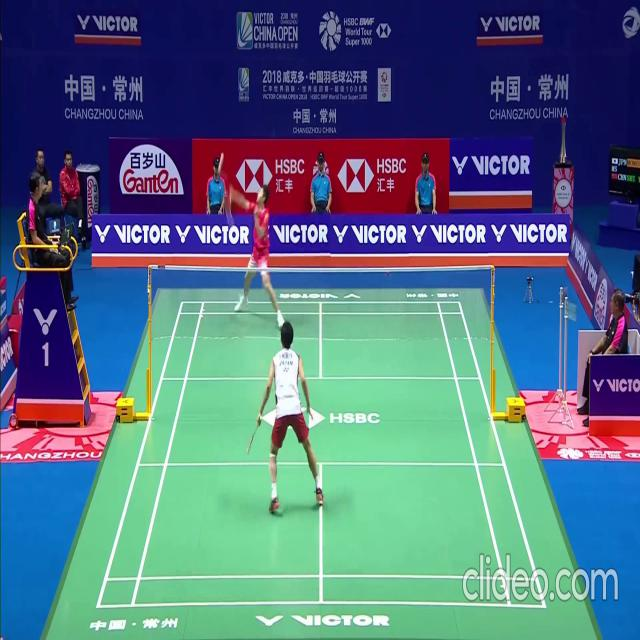Shuttlecock: (218, 163, 222, 170)
